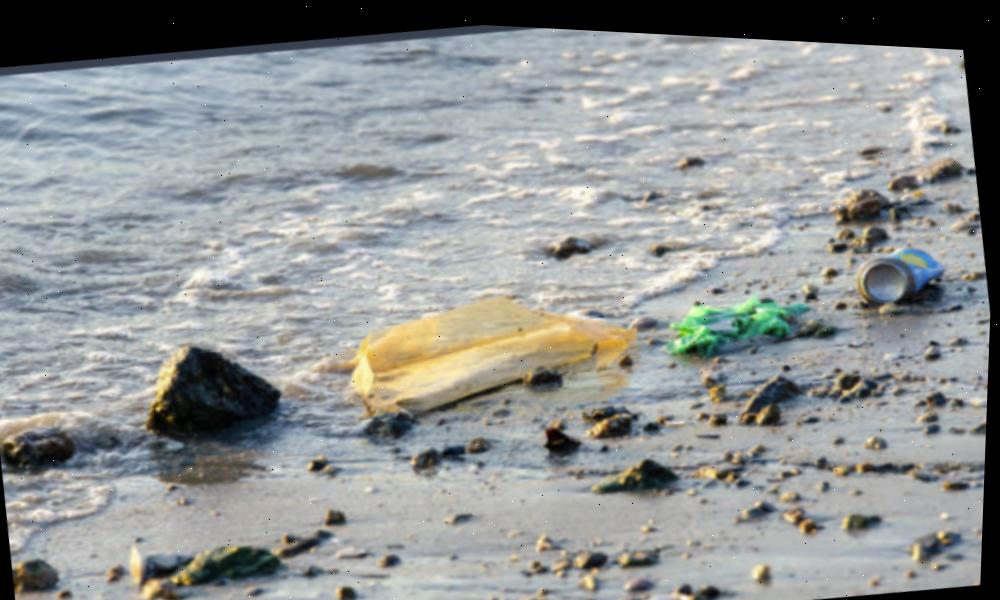can: (839, 209, 954, 316)
plastic bag: (341, 257, 619, 420), (647, 252, 822, 374)
